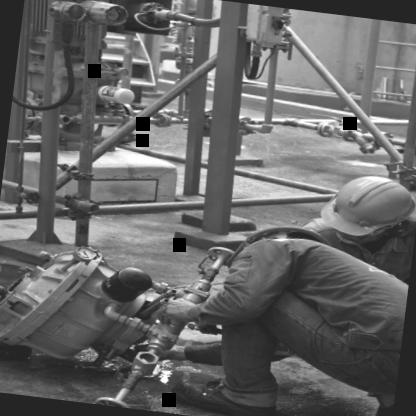helmet: (300, 159, 416, 260)
